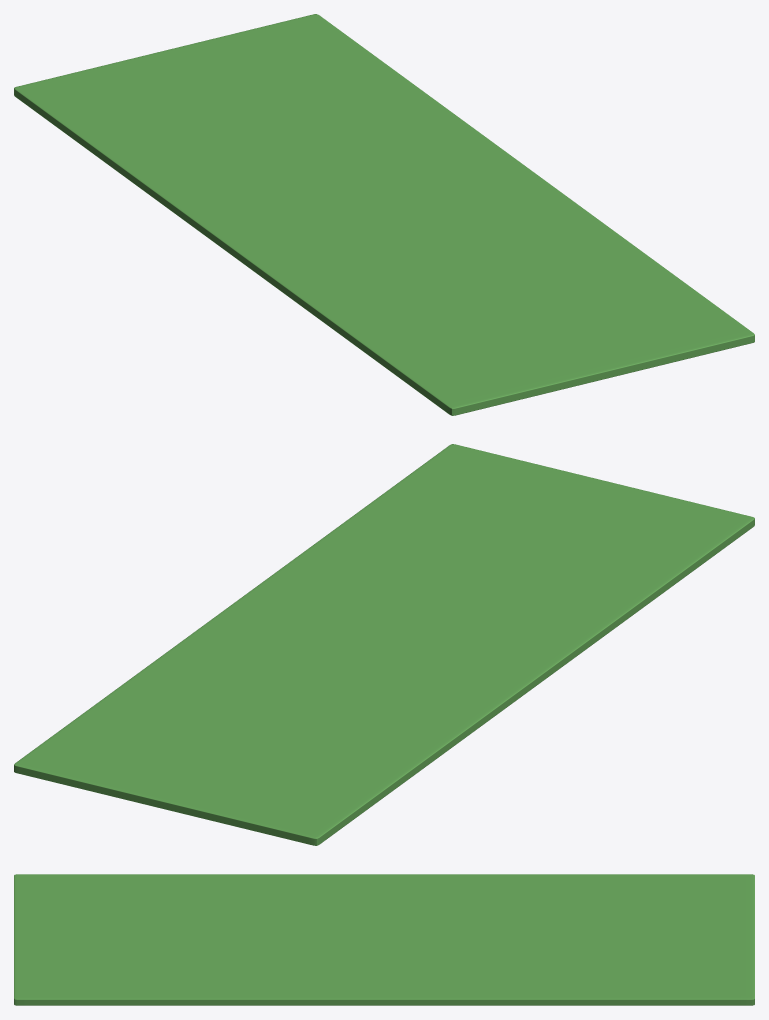
Rendered from RectPlatform_High.fbx.
3 views of the same model, one above another, from view 1: azimuth 30°, elevation 25°; view 2: azimuth 150°, elevation 25°; view 3: azimuth 270°, elevation 25° (orthographic). The views are drawn at different scales.
Visible parts, largest first — view 1: RectPlatform_High; view 2: RectPlatform_High; view 3: RectPlatform_High.
Boxes of the visible parts, left/top/right/bottom form: RectPlatform_High: left=14, top=14, right=754, bottom=415; RectPlatform_High: left=14, top=444, right=754, bottom=845; RectPlatform_High: left=14, top=874, right=754, bottom=1005.
Bounding box in the file's own units: 20 × 0.5 × 50.
